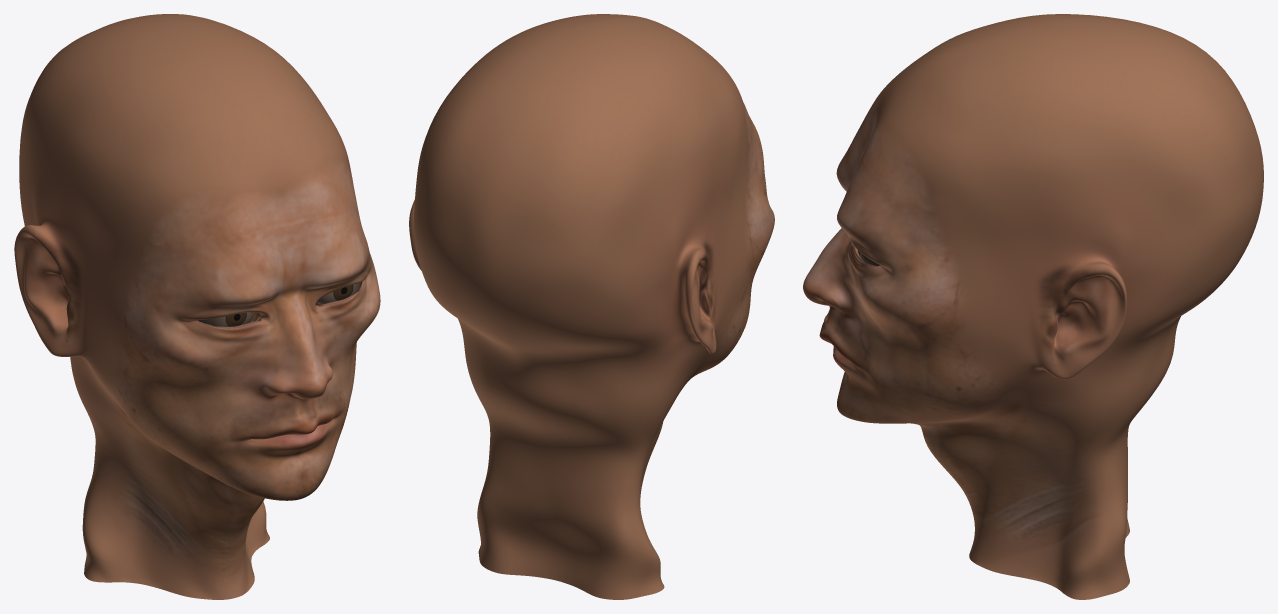
The model's file is ShenShang_Archive03.glb.
The picture shows the model from 3 angles, left to right: view 1: azimuth 30°, elevation 25°; view 2: azimuth 150°, elevation 25°; view 3: azimuth 270°, elevation 25°; orthographic projection.
Parts seen in each view (by area): view 1: ShenShang_Head, Eye.R; view 2: ShenShang_Head; view 3: ShenShang_Head.
Part boxes in pixels (<box>): ShenShang_Head: <box>14,14,380,599</box>; Eye.R: <box>198,312,254,326</box>; ShenShang_Head: <box>409,14,774,599</box>; ShenShang_Head: <box>803,14,1263,599</box>.
Bounding box in the file's own units: 0.1806 × 0.3186 × 0.2535.
Materials: 8 (1 with a texture image).
